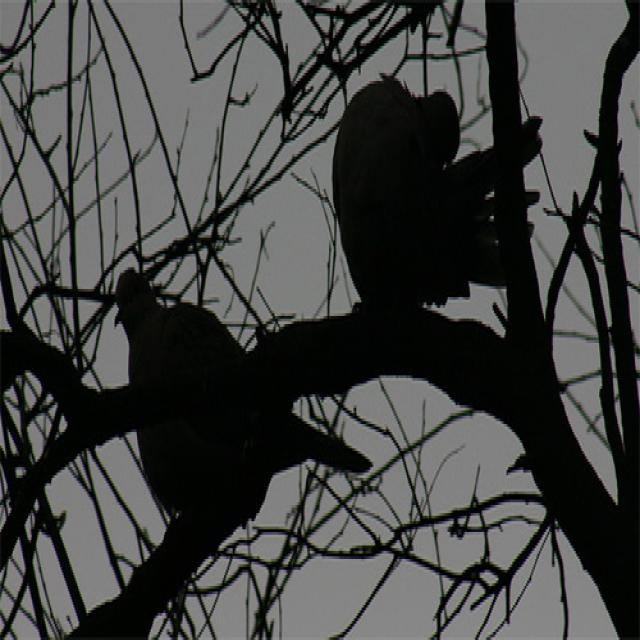bird: (113, 269, 374, 523), (333, 74, 545, 306)
